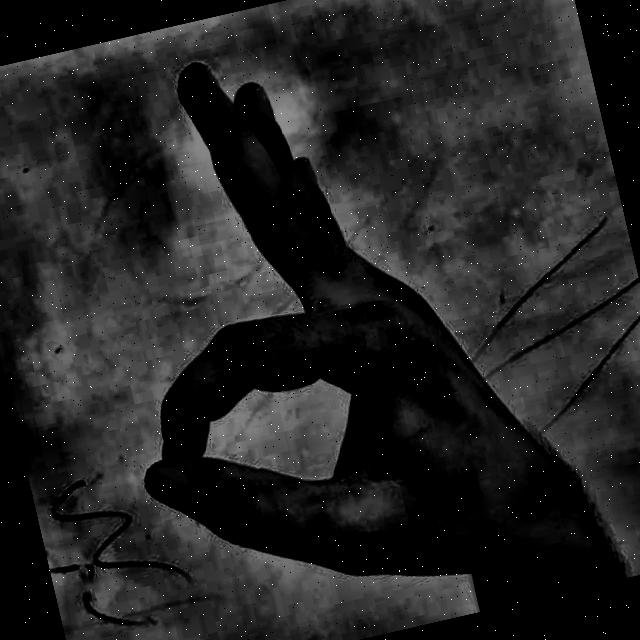Ca: (15, 0, 633, 640)
